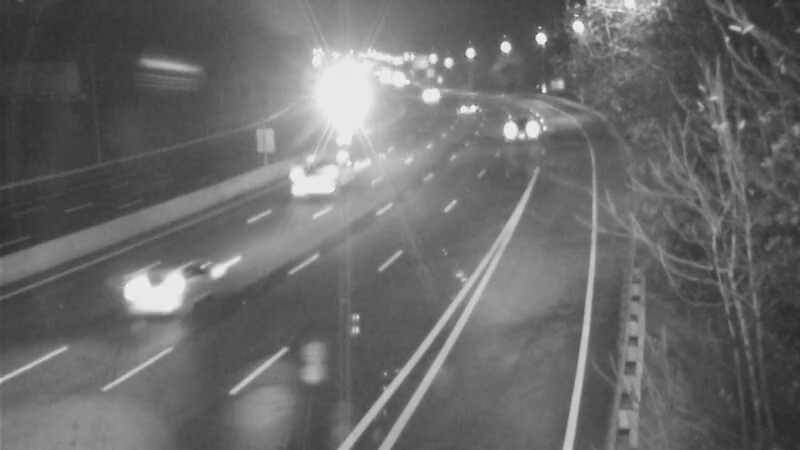vehicle: (273, 135, 353, 215), (111, 254, 191, 334), (401, 68, 451, 118), (439, 85, 489, 135), (485, 101, 535, 151), (311, 90, 361, 140)
